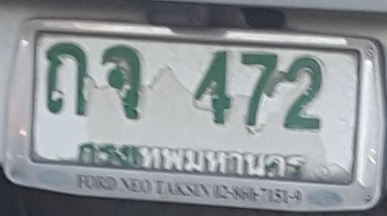txt06: (98, 42, 143, 122)
txt17: (41, 40, 90, 118)
